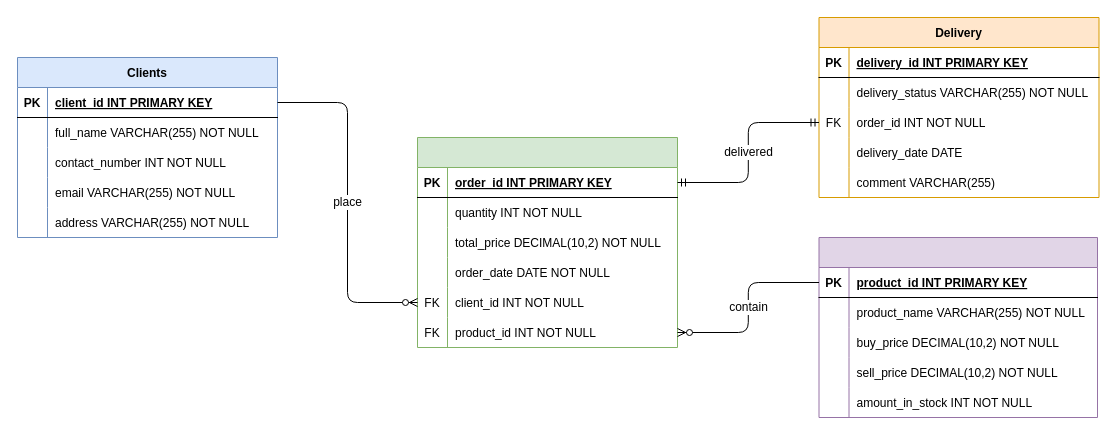
The diagram is 1117 pixels wide and 435 high, and some of its shapes have lost their labels. Here are the shapes that lost their labels. From the top down, the box of each, then its label:
(416, 136, 678, 348): Orders
(818, 236, 1098, 418): Products
